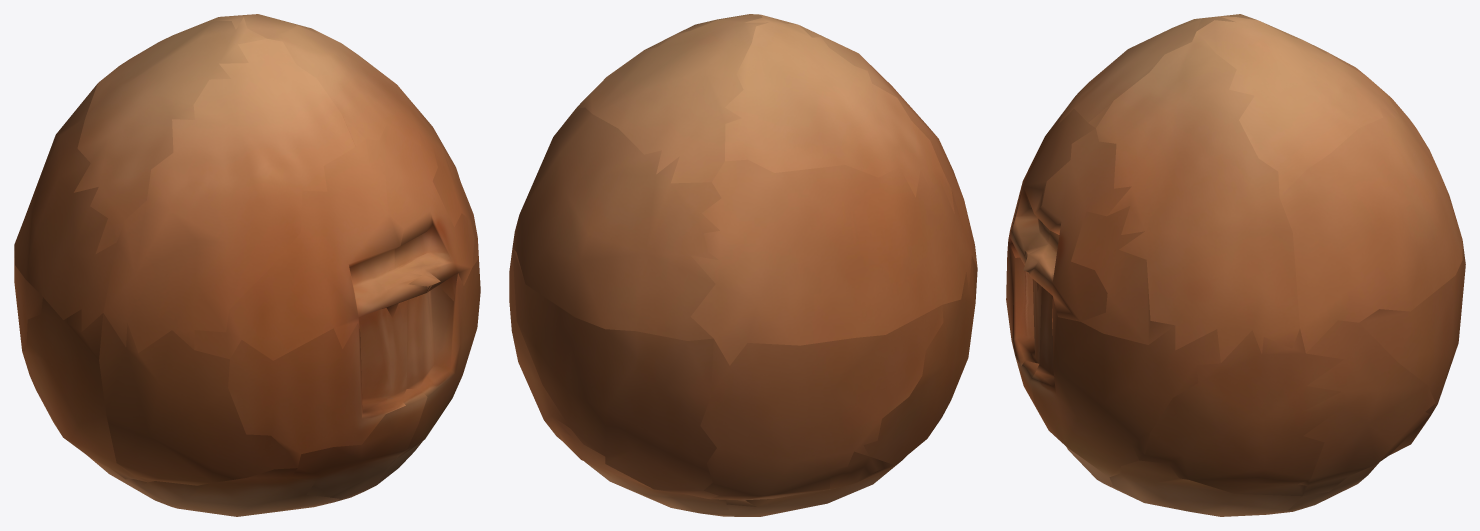
File: Granary.glb
The picture shows the model from 3 angles, left to right: view 1: azimuth 30°, elevation 25°; view 2: azimuth 150°, elevation 25°; view 3: azimuth 270°, elevation 25°; orthographic projection.
Visible parts, largest first — view 1: Granary; view 2: Granary; view 3: Granary.
Part boxes in pixels (x1=…): Granary: x1=14, y1=14, x2=480, y2=516; Granary: x1=509, y1=14, x2=977, y2=516; Granary: x1=1006, y1=14, x2=1465, y2=516.
Bounding box in the file's own units: 0.997 × 1.08 × 0.9877.
Materials: 1 (1 with a texture image).
